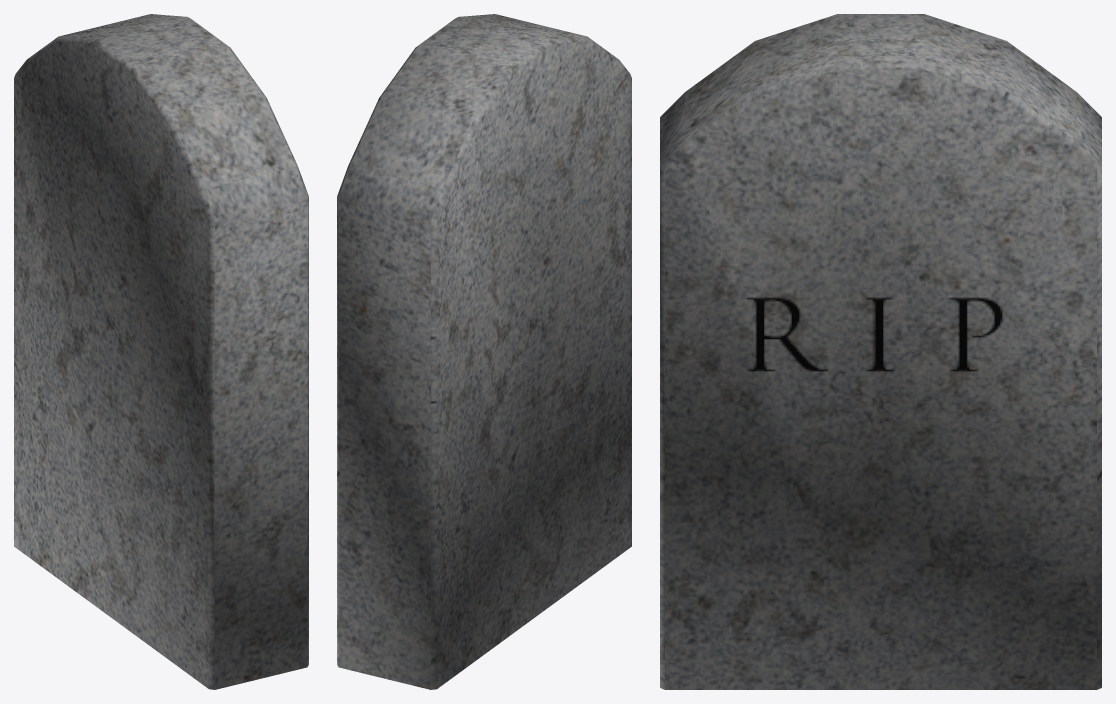
File: Tombstone1.fbx
3 renders of one model, left to right at view 1: azimuth 30°, elevation 25°; view 2: azimuth 150°, elevation 25°; view 3: azimuth 270°, elevation 25°, orthographic. The views are drawn at different scales.
Visible parts, largest first — view 1: Cube; view 2: Cube; view 3: Cube.
Part boxes in pixels (<box>): Cube: <box>14,14,308,689</box>; Cube: <box>337,14,631,689</box>; Cube: <box>660,14,1101,689</box>.
Size of the model in its own units: 57.87 by 312 by 200.
Materials: 1 (1 with a texture image).
